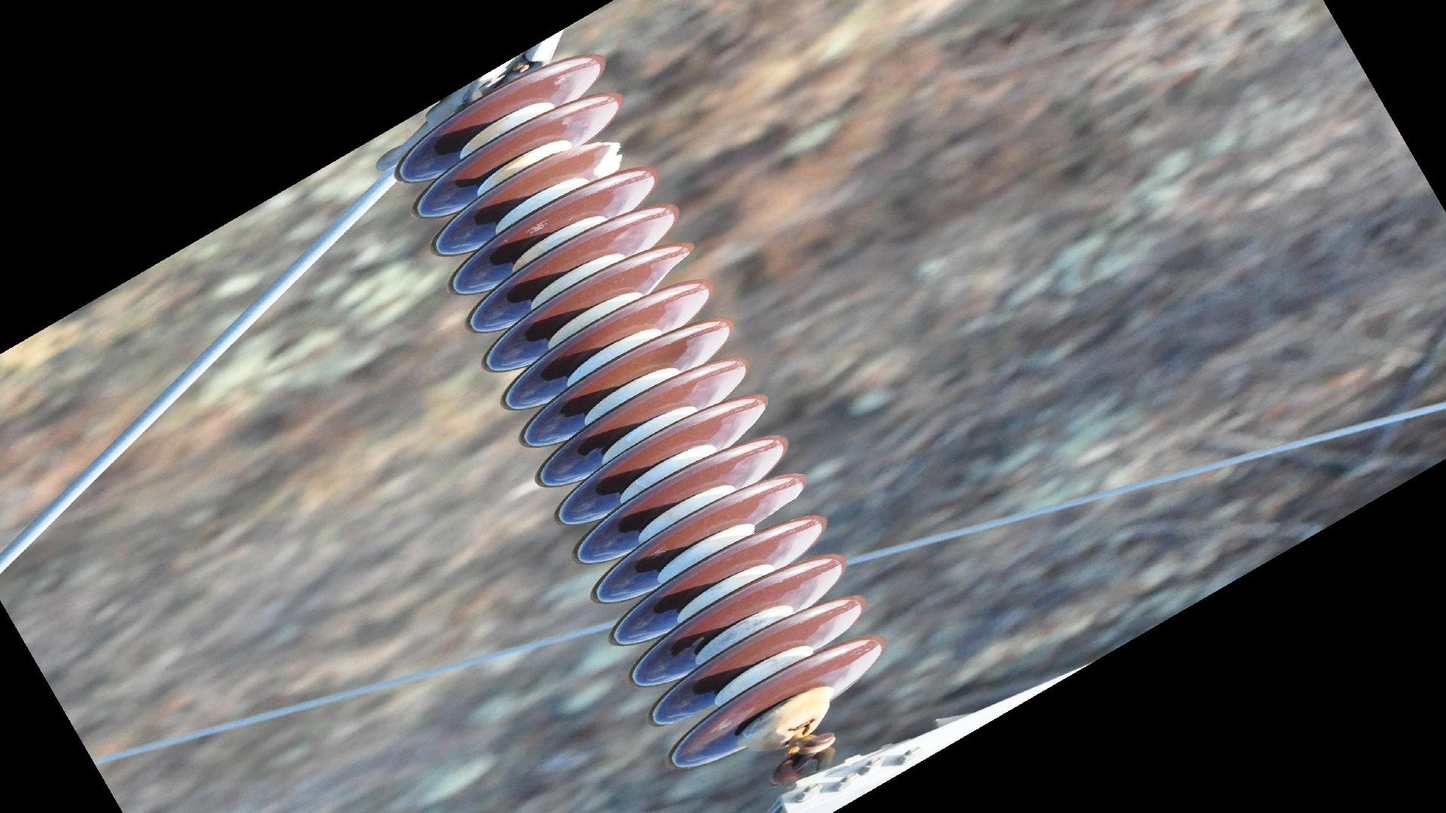insulator: (386, 47, 892, 776)
insulator_breakage: (590, 139, 625, 181)
